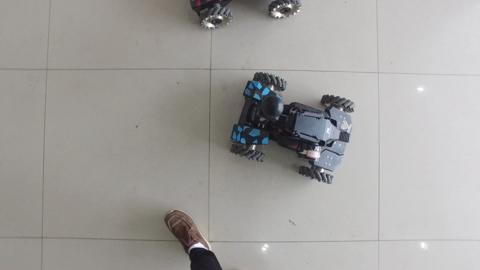chariot: (227, 69, 355, 185)
